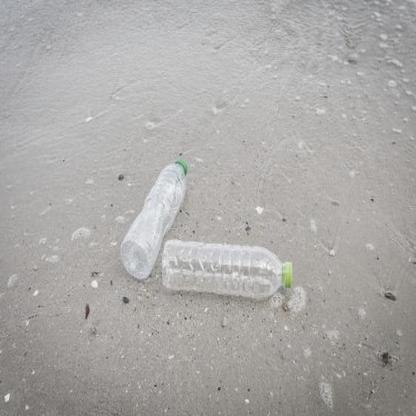plastic bottle: (117, 159, 189, 279), (161, 239, 295, 300)
